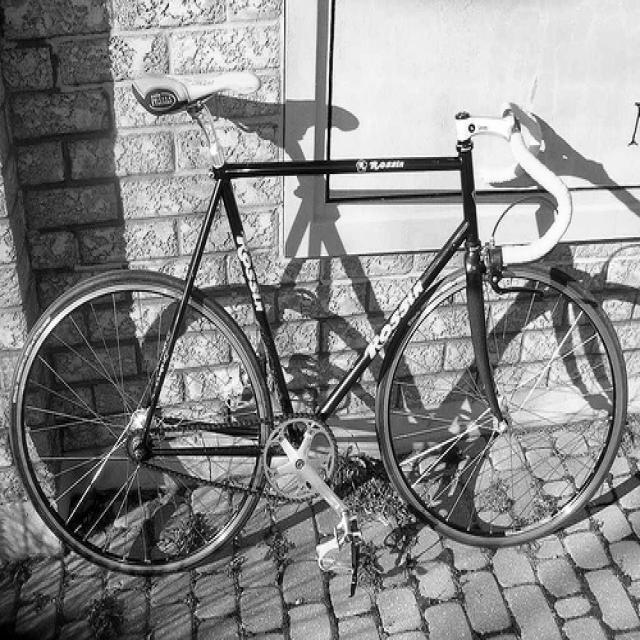bicycle: (9, 70, 628, 597)
